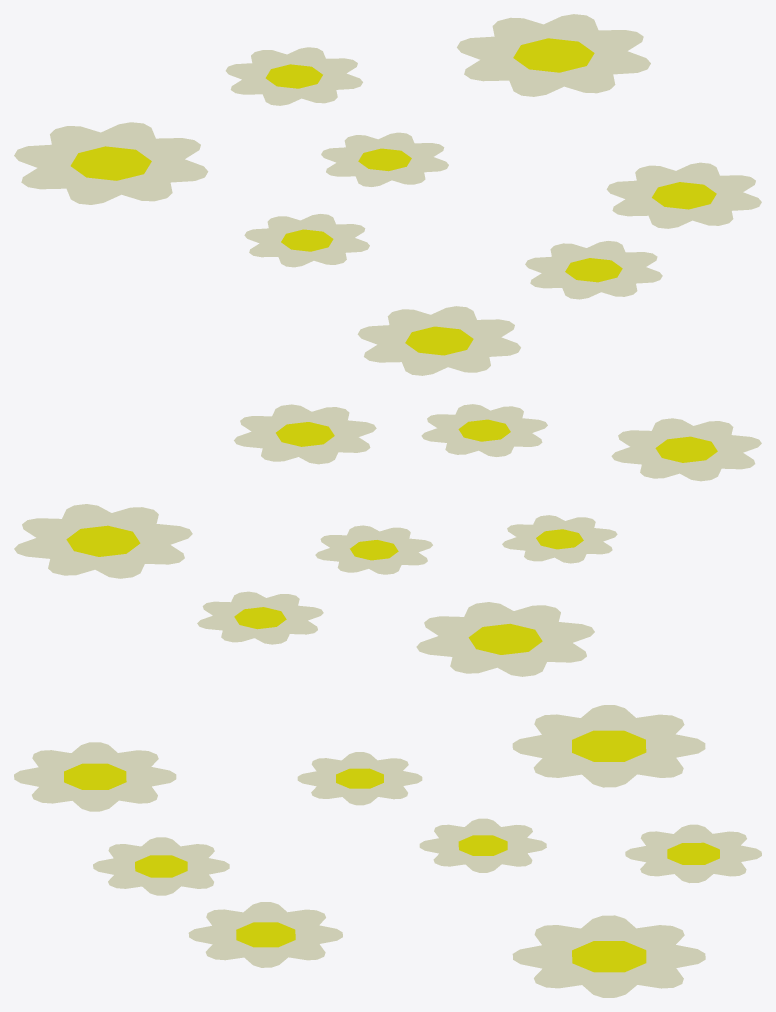
Rendered from WhiteGroundFlowers.fbx.
The picture shows the model from 3 angles, top to bottom: view 1: azimuth 30°, elevation 25°; view 2: azimuth 150°, elevation 25°; view 3: azimuth 270°, elevation 25°; orthographic projection. The views are drawn at different scales.
Visible parts, largest first — view 1: WhiteGroundFlowers; view 2: WhiteGroundFlowers; view 3: WhiteGroundFlowers.
Boxes of the visible parts, x1,y1,x2,y2 form: WhiteGroundFlowers: [14, 14, 761, 375]; WhiteGroundFlowers: [14, 404, 761, 676]; WhiteGroundFlowers: [14, 705, 761, 997].
Bounding box in the file's own units: 3.48 × 0 × 3.75.
